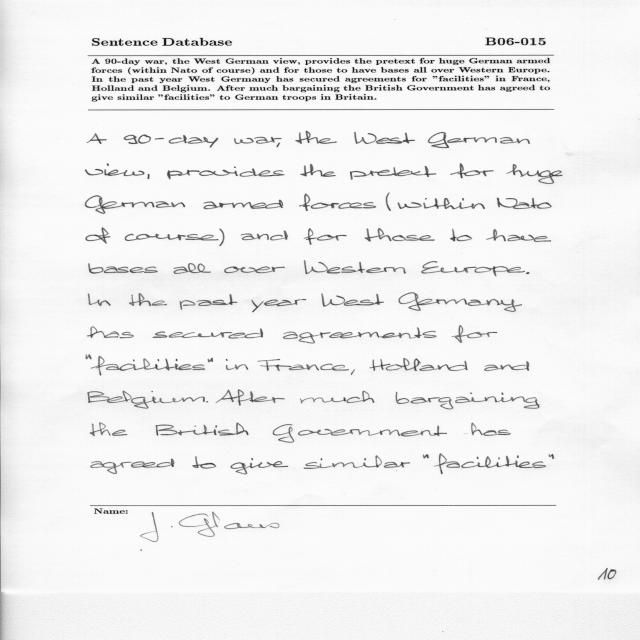word: (273, 424, 447, 443), (283, 327, 436, 344), (396, 392, 540, 410), (398, 292, 522, 312), (434, 454, 546, 474), (86, 355, 192, 376), (88, 391, 205, 409), (86, 195, 186, 214), (125, 229, 224, 247), (428, 132, 530, 148), (421, 261, 525, 276), (167, 167, 285, 180), (304, 455, 410, 469), (304, 260, 406, 274), (91, 458, 174, 474), (299, 194, 376, 211), (369, 358, 468, 371), (124, 135, 218, 148), (153, 328, 263, 339), (156, 423, 249, 436), (350, 166, 436, 180), (507, 164, 563, 184), (257, 359, 349, 371), (216, 390, 285, 406), (365, 228, 435, 242), (397, 198, 485, 209), (300, 391, 374, 404), (180, 294, 238, 310), (231, 458, 289, 474), (321, 293, 384, 307), (486, 229, 551, 242), (451, 325, 497, 343), (204, 200, 284, 210), (89, 263, 158, 274), (354, 132, 415, 144), (304, 228, 347, 245), (85, 164, 145, 176), (252, 299, 306, 312), (450, 164, 494, 179), (497, 198, 552, 209), (471, 422, 511, 436), (88, 327, 134, 339), (295, 131, 337, 144), (91, 423, 128, 437), (129, 293, 167, 306), (300, 164, 336, 177), (484, 361, 529, 371), (224, 267, 285, 274), (174, 263, 211, 274), (86, 228, 111, 244), (234, 137, 282, 144), (192, 456, 216, 469), (450, 229, 472, 242), (88, 294, 111, 306), (192, 358, 213, 370), (87, 133, 107, 144), (270, 231, 288, 241), (241, 234, 269, 240), (226, 364, 248, 370), (386, 193, 391, 211), (423, 454, 429, 459), (549, 454, 554, 459), (351, 369, 355, 375), (277, 143, 280, 147), (148, 174, 150, 179), (526, 272, 530, 274), (226, 359, 228, 361), (207, 401, 209, 403)
